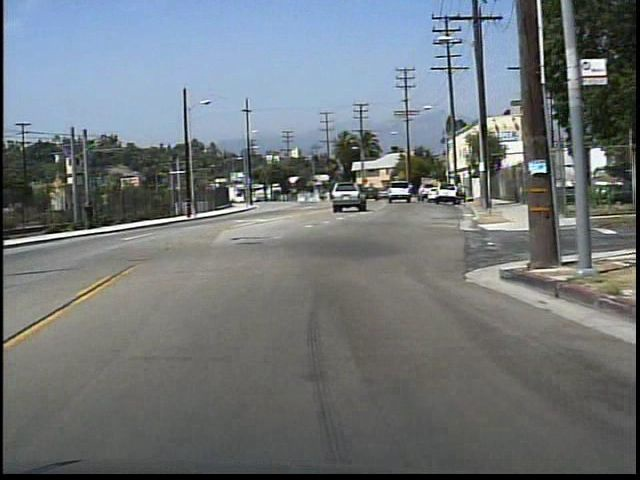person: (86, 198, 101, 231)
